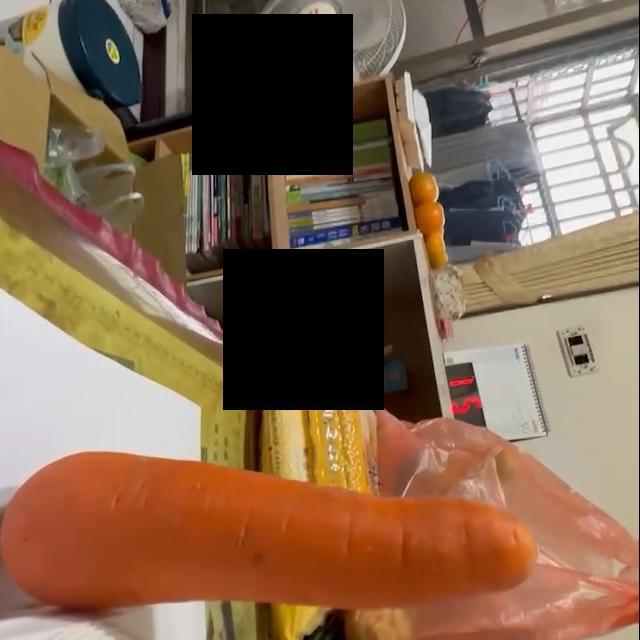carrot: (1, 448, 540, 611)
